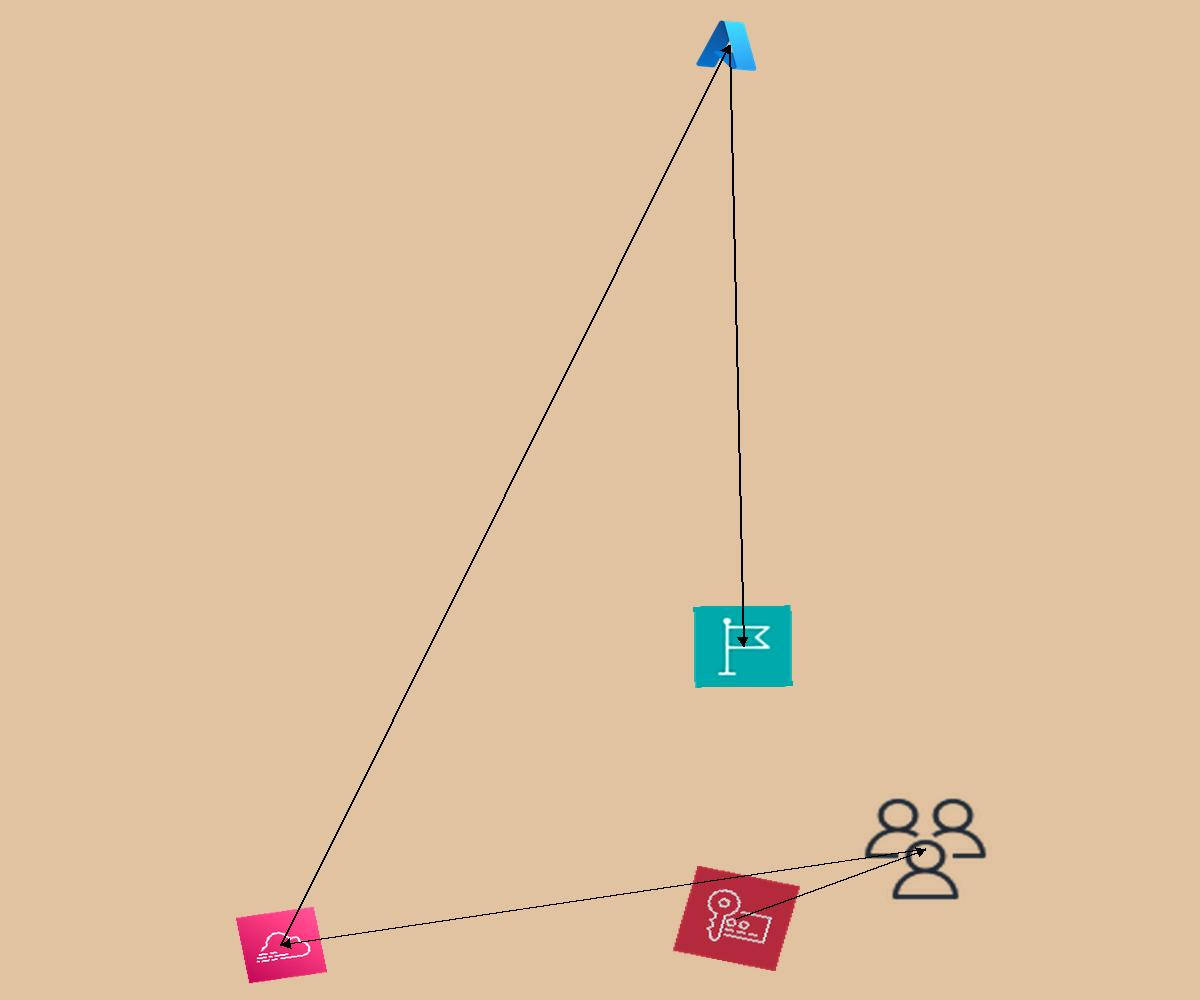AWS-CloudTrail: (235, 906, 328, 984)
AWS-Key-Management-Service: (672, 865, 801, 972)
AWS-Region: (693, 605, 793, 688)
AWS-Res_Users: (857, 792, 994, 906)
Azure_services: (693, 15, 765, 75)
